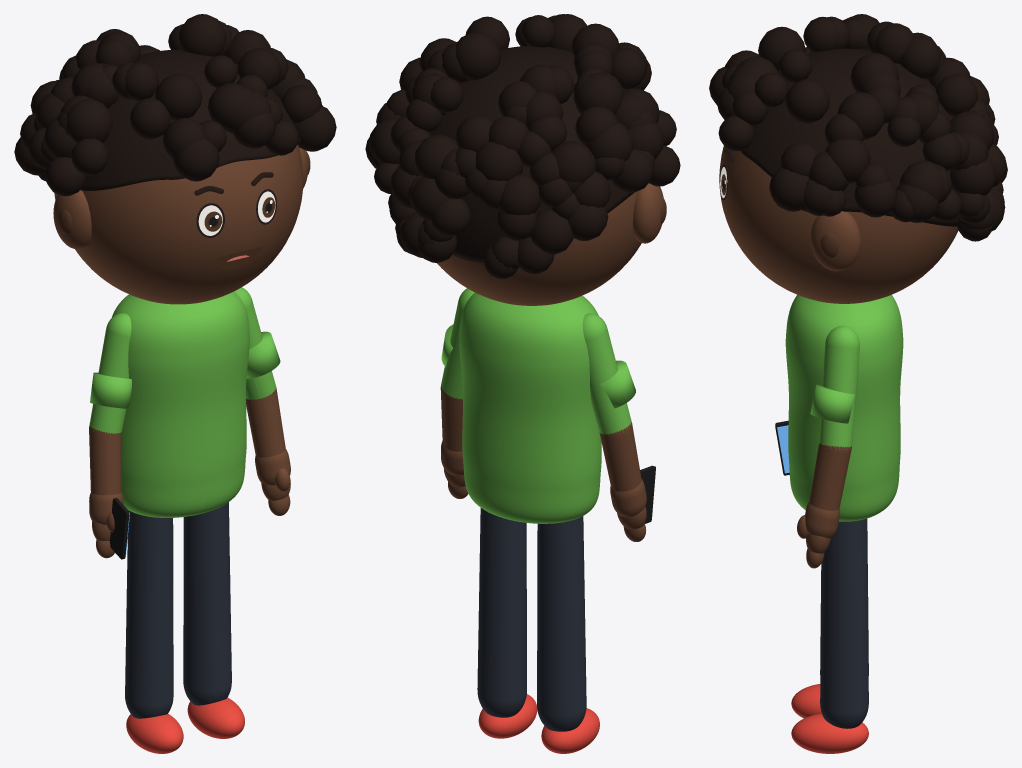
Rendered from beste_vriend.glb.
3 views of the same model, side by side, from view 1: azimuth 30°, elevation 25°; view 2: azimuth 150°, elevation 25°; view 3: azimuth 270°, elevation 25° (orthographic). The views are drawn at different scales.
Visible parts, largest first — view 1: beste_vriend_romp, beste_vriend_hoofd, beste_vriend_been_R, beste_vriend_been_L, beste_vriend_haar, beste_vriend_bovenarm_R, beste_vriend_onderarm_R, beste_vriend_onderarm_L, beste_vriend_schoen_R, beste_vriend_schoen_L, beste_vriend_krul60, beste_vriend_krul32 (+30 smaller); view 2: beste_vriend_romp, beste_vriend_been_R, beste_vriend_been_L, beste_vriend_hoofd, beste_vriend_haar, beste_vriend_bovenarm_R, beste_vriend_onderarm_R, beste_vriend_krul60, beste_vriend_krul28, beste_vriend_oor_R, beste_vriend_schoen_R, beste_vriend_krul17 (+52 smaller); view 3: beste_vriend_romp, beste_vriend_hoofd, beste_vriend_been_L, beste_vriend_haar, beste_vriend_bovenarm_L, beste_vriend_schoen_L, beste_vriend_oor_L, beste_vriend_onderarm_L, beste_vriend_krul55, beste_vriend_krul0, beste_vriend_krul26, beste_vriend_krul83 (+35 smaller).
Part boxes in pixels (bbox=[...]): beste_vriend_romp: bbox=[111, 291, 249, 517]; beste_vriend_hoofd: bbox=[54, 144, 303, 304]; beste_vriend_been_R: bbox=[125, 510, 173, 718]; beste_vriend_been_L: bbox=[183, 502, 231, 705]; beste_vriend_haar: bbox=[80, 49, 301, 190]; beste_vriend_bovenarm_R: bbox=[89, 313, 131, 433]; beste_vriend_onderarm_R: bbox=[89, 428, 121, 495]; beste_vriend_onderarm_L: bbox=[246, 389, 285, 457]; beste_vriend_schoen_R: bbox=[126, 714, 183, 753]; beste_vriend_schoen_L: bbox=[187, 697, 244, 738]; beste_vriend_krul60: bbox=[178, 14, 226, 56]; beste_vriend_krul32: bbox=[66, 98, 112, 142]; beste_vriend_romp: bbox=[459, 292, 601, 523]; beste_vriend_been_R: bbox=[537, 516, 586, 731]; beste_vriend_been_L: bbox=[477, 508, 526, 717]; beste_vriend_hoofd: bbox=[437, 191, 641, 305]; beste_vriend_haar: bbox=[430, 46, 634, 262]; beste_vriend_bovenarm_R: bbox=[582, 313, 631, 436]; beste_vriend_onderarm_R: bbox=[599, 424, 641, 491]; beste_vriend_krul60: bbox=[455, 32, 501, 80]; beste_vriend_krul28: bbox=[573, 72, 623, 114]; beste_vriend_oor_R: bbox=[633, 183, 663, 243]; beste_vriend_schoen_R: bbox=[541, 708, 599, 753]; beste_vriend_krul17: bbox=[475, 141, 523, 181]; beste_vriend_romp: bbox=[785, 294, 903, 521]; beste_vriend_hoofd: bbox=[719, 146, 958, 303]; beste_vriend_been_L: bbox=[820, 518, 868, 728]; beste_vriend_haar: bbox=[740, 48, 958, 226]; beste_vriend_bovenarm_L: bbox=[819, 325, 859, 452]; beste_vriend_schoen_L: bbox=[791, 713, 868, 753]; beste_vriend_oor_L: bbox=[810, 211, 860, 271]; beste_vriend_onderarm_L: bbox=[809, 443, 851, 510]; beste_vriend_krul55: bbox=[785, 79, 829, 123]; beste_vriend_krul0: bbox=[837, 92, 884, 139]; beste_vriend_krul26: bbox=[935, 74, 978, 116]; beste_vriend_krul83: bbox=[825, 139, 870, 183].
Bounding box in the file's own units: 0.7524 × 1.85 × 0.716.
